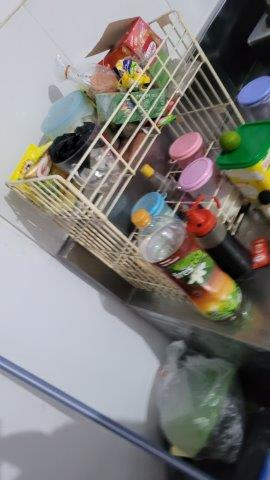botolplastik: (132, 209, 243, 320)
